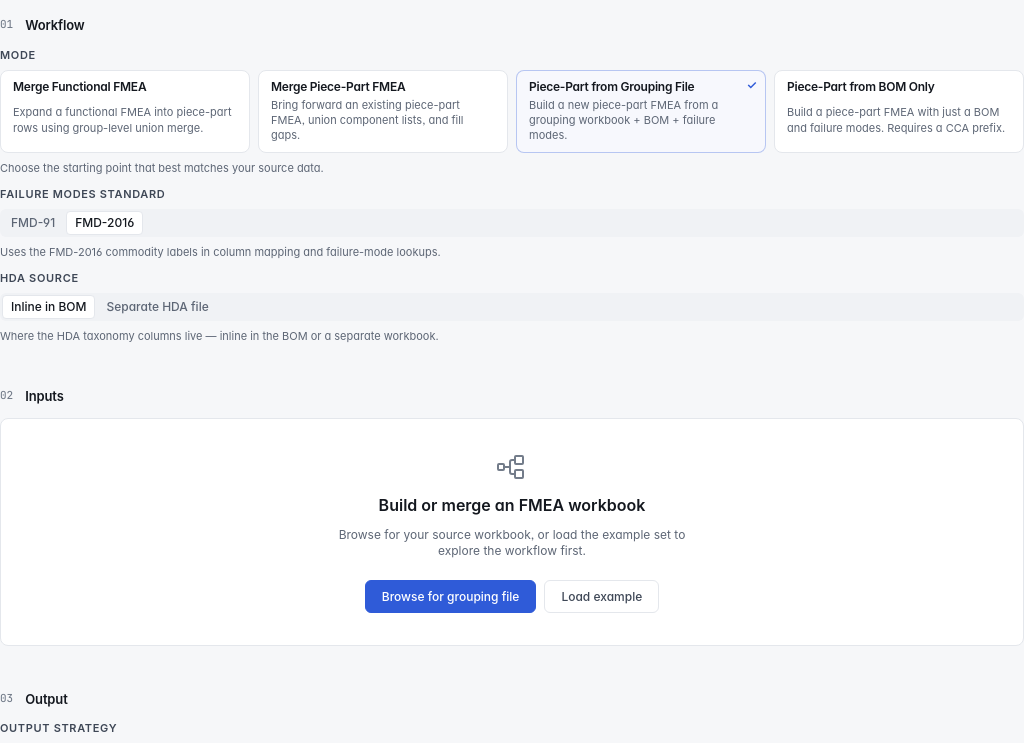
tool run dispatch › FMEA marks mandatory input roles with a required indicator in desktop mode
Click the button "Browse for grouping file": [451, 596] box [365, 580, 536, 612]
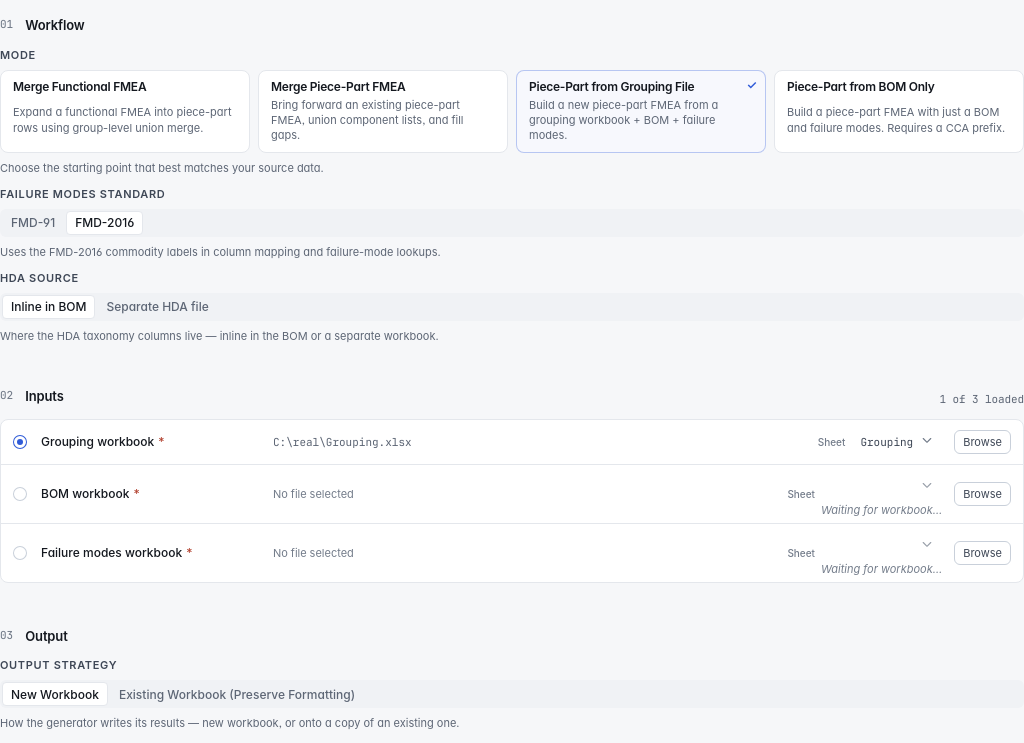
Now the text "Grouping workbook" is shown, box [41, 434, 154, 449]
Now the number of elements titled "Required — the run is blocked until this file is loaded." is 3, box [158, 434, 165, 449]; [133, 486, 140, 501]; [186, 545, 192, 560]
